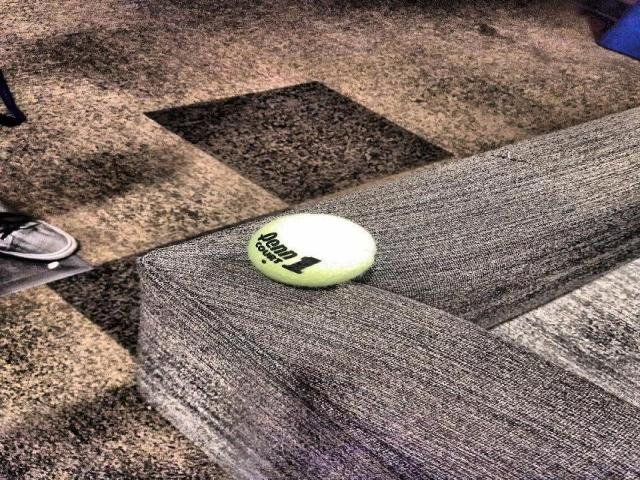tennis-ball: (248, 210, 378, 291)
